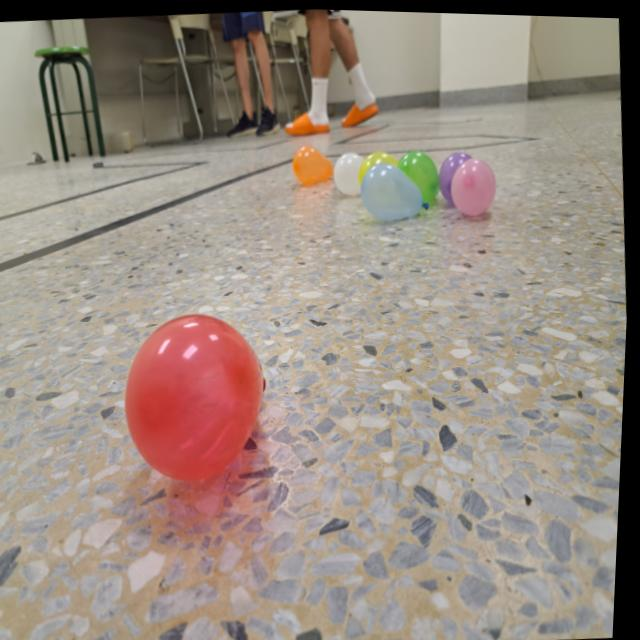other: (360, 158, 431, 222), (448, 154, 498, 214), (396, 147, 443, 201), (290, 142, 335, 188), (437, 148, 474, 203), (358, 147, 404, 186), (332, 148, 367, 194)
red: (119, 305, 279, 487)
